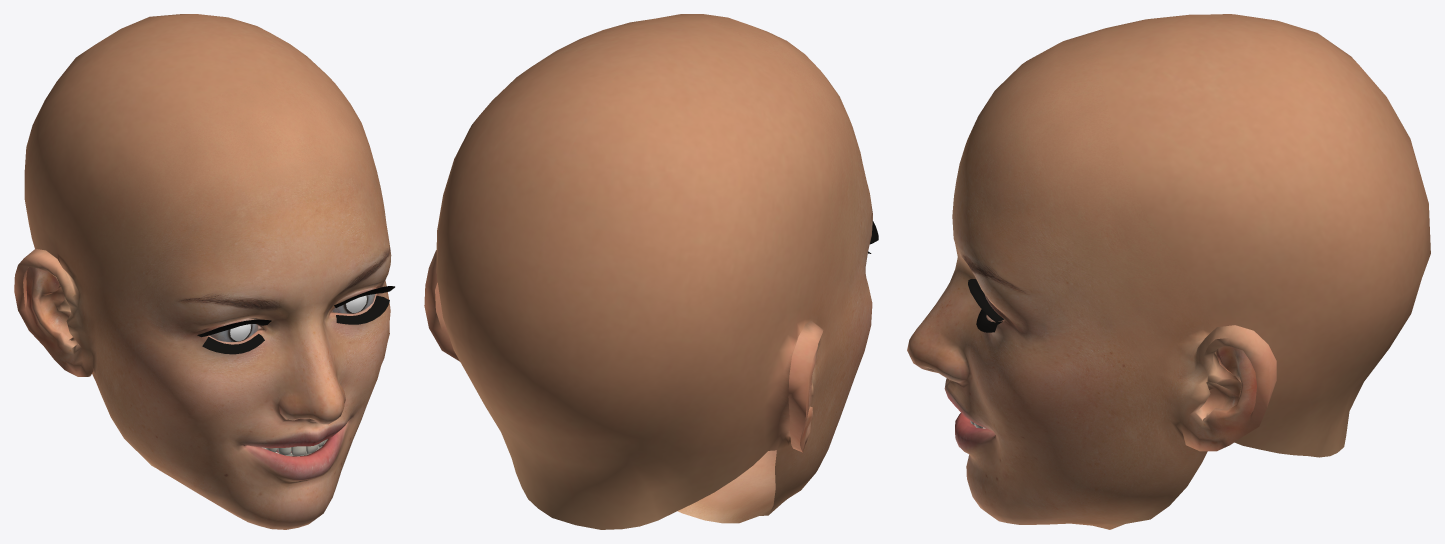
Rendered from Fem.obj.
The picture shows the model from 3 angles, left to right: view 1: azimuth 30°, elevation 25°; view 2: azimuth 150°, elevation 25°; view 3: azimuth 270°, elevation 25°; orthographic projection. The views are drawn at different scales.
Visible parts, largest first — view 1: Head, rEye, lEye; view 2: Head; view 3: Head.
Part boxes in pixels (x1,y1,x2,y2): Head: [14, 14, 394, 529]; rEye: [209, 324, 258, 341]; lEye: [332, 294, 375, 313]; Head: [424, 14, 878, 529]; Head: [907, 14, 1430, 529].
Bounding box in the file's own units: 18.28 × 23.45 × 22.7.
